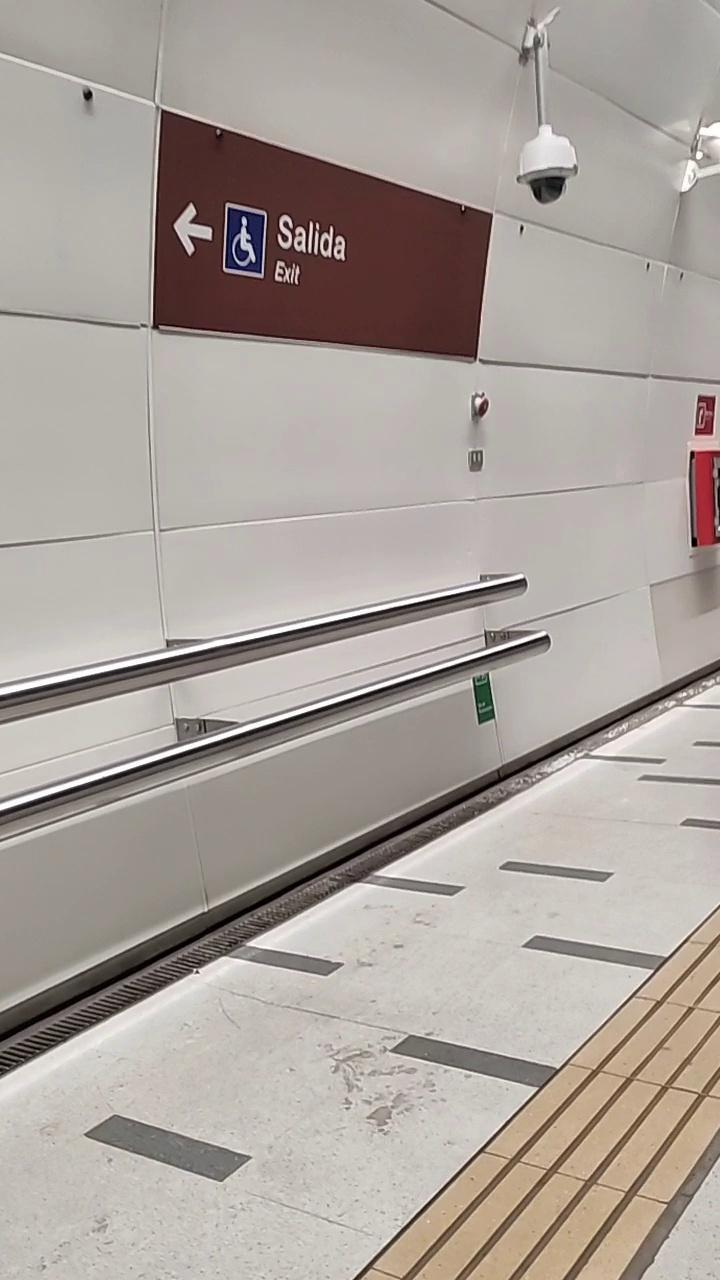handicapped symbol: (231, 214, 256, 266)
left arrow: (173, 202, 215, 258)
